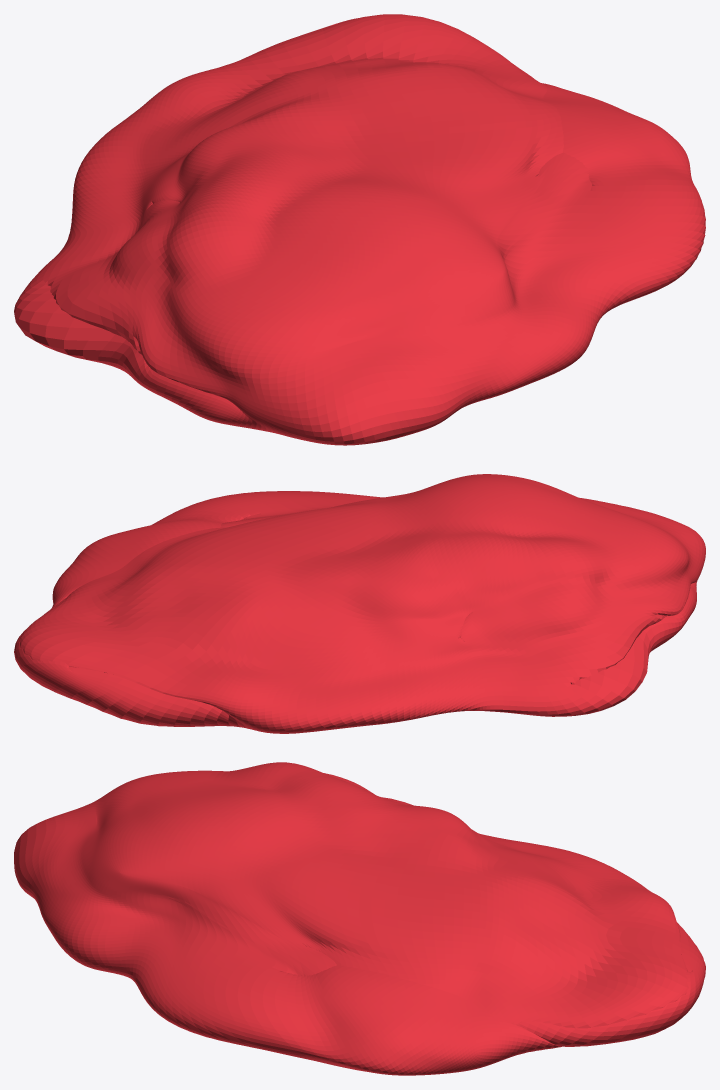
The model's file is MS Mush.fbx.
3 views of the same model, one above another, from view 1: azimuth 30°, elevation 25°; view 2: azimuth 150°, elevation 25°; view 3: azimuth 270°, elevation 25° (orthographic). The views are drawn at different scales.
Visible parts, largest first — view 1: Cube.030; view 2: Cube.030; view 3: Cube.030.
Part boxes in pixels (x1,y1,x2,y2): Cube.030: [14, 14, 705, 445]; Cube.030: [14, 474, 705, 733]; Cube.030: [14, 762, 705, 1075].
Size of the model in its own units: 295 by 60.13 by 311.
